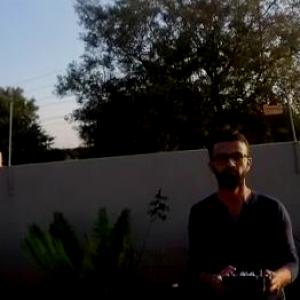follow: (185, 126, 300, 299)
